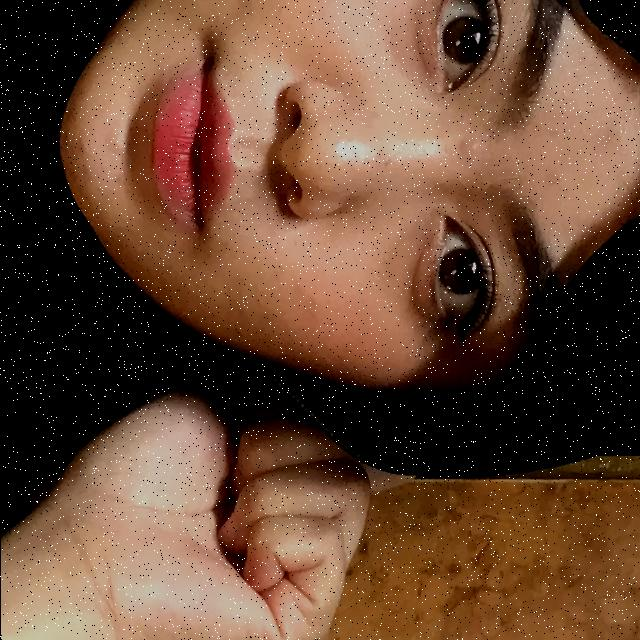ibu: (0, 340, 354, 640)
